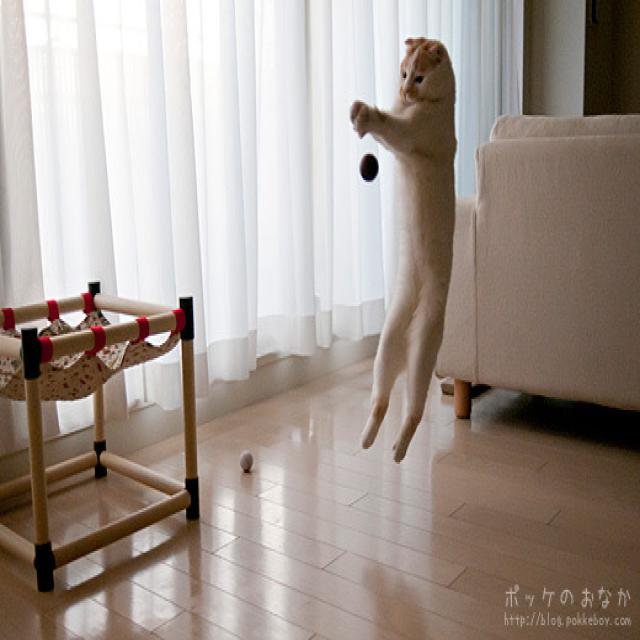cat: (342, 31, 486, 484)
